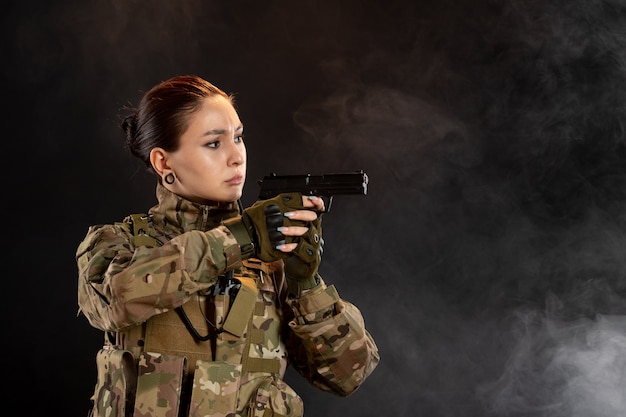gun: (258, 170, 369, 221)
